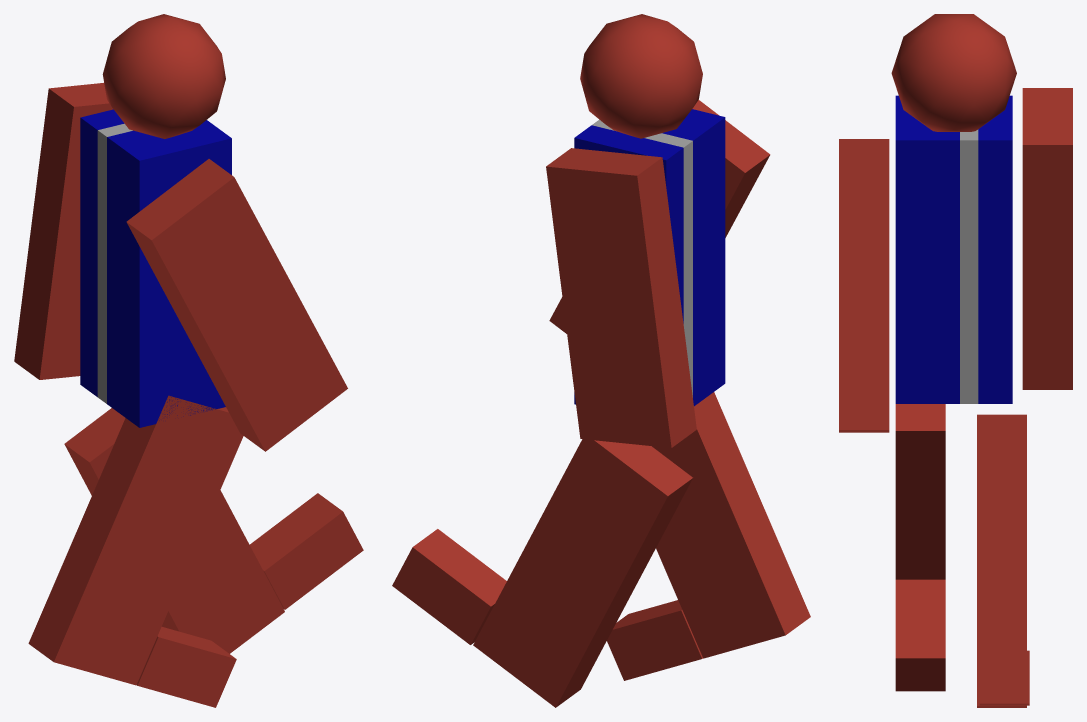
Rendered from player_000061.obj.
3 views of the same model, side by side, from view 1: azimuth 30°, elevation 25°; view 2: azimuth 150°, elevation 25°; view 3: azimuth 270°, elevation 25° (orthographic).
Parts seen in each view (by area): view 1: Cube.001, Cube.005, Cube, Cube.006, Cube.002, Icosphere, Cube.004, Cube.003; view 2: Cube.006, Cube.002, Cube.001, Cube, Icosphere, Cube.004, Cube.003, Cube.005; view 3: Cube, Cube.006, Cube.005, Cube.002, Icosphere, Cube.001, Cube.003, Cube.004.
Part boxes in pixels (x1,y1,x2,y2): Cube.001: (28,395,243,685); Cube.005: (126,159,347,451); Cube: (80,109,231,427); Cube.006: (14,83,113,379); Cube.002: (64,408,284,653); Icosphere: (102,14,225,138); Cube.004: (250,493,363,609); Cube.003: (136,627,236,707); Cube.006: (546,148,696,447); Cube.002: (473,439,692,707); Cube.001: (652,392,810,658); Cube: (574,109,725,406); Icosphere: (580,14,702,138); Cube.004: (392,529,506,644); Cube.003: (607,600,702,680); Cube.005: (549,99,770,333); Cube: (895,95,1012,403); Cube.006: (1022,88,1072,389); Cube.005: (839,139,889,432); Cube.002: (977,414,1026,707); Icosphere: (891,14,1016,131); Cube.001: (895,404,945,579); Cube.003: (895,579,945,691); Cube.004: (979,650,1029,705).
Bounding box in the file's own units: 1.57 × 2.88 × 0.9137.
